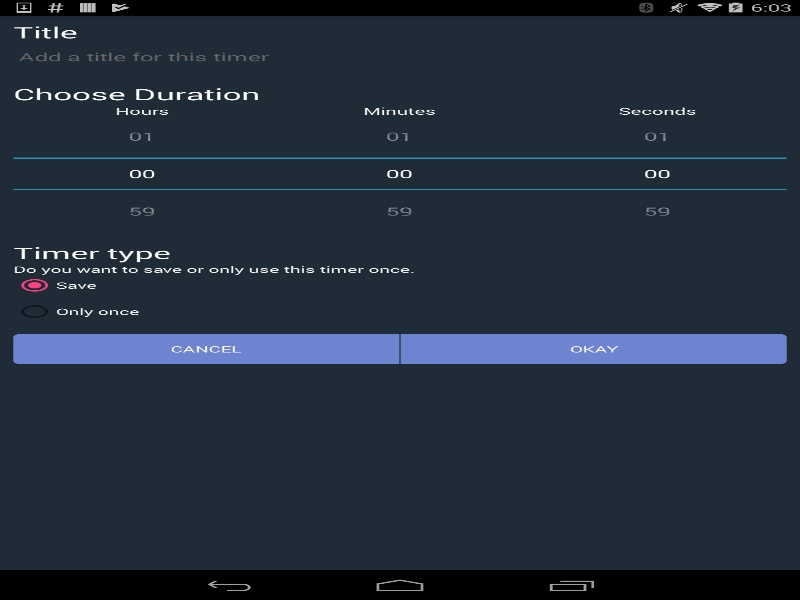Button: (13, 334, 399, 364), (400, 334, 786, 364), (270, 188, 528, 230), (528, 188, 786, 230), (13, 188, 270, 230), (270, 117, 528, 158), (528, 117, 786, 158), (13, 117, 270, 158)
Input: (13, 42, 786, 71), (270, 158, 528, 188), (528, 158, 786, 188), (13, 158, 270, 188)
